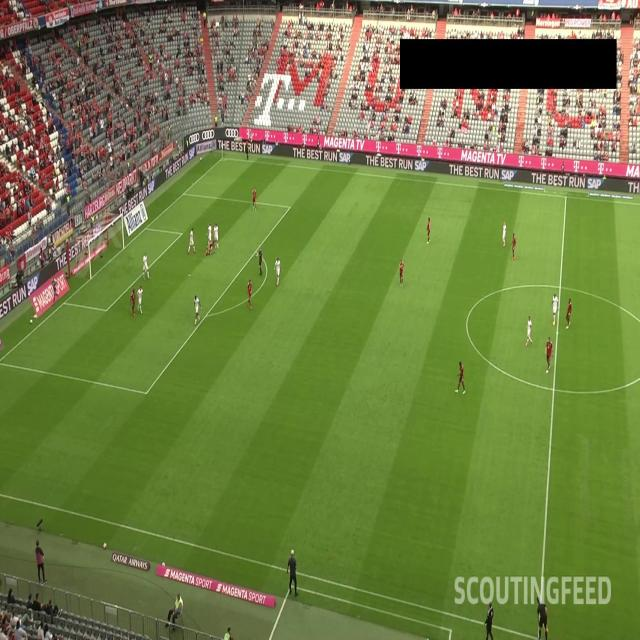ball: (29, 314, 34, 327)
player: (544, 335, 556, 374), (454, 358, 466, 395), (549, 291, 561, 327), (186, 225, 197, 255), (524, 314, 534, 347), (50, 273, 60, 305), (135, 284, 145, 314), (192, 293, 201, 326), (128, 286, 137, 318), (246, 277, 254, 311), (274, 256, 282, 287), (398, 256, 406, 287), (566, 295, 573, 330), (142, 251, 150, 281), (206, 221, 214, 250), (500, 220, 508, 249), (510, 231, 517, 262), (213, 222, 220, 251), (205, 237, 214, 259), (426, 214, 432, 245), (252, 185, 257, 212)
referee: (534, 593, 551, 640), (255, 246, 265, 278), (240, 136, 252, 162)
